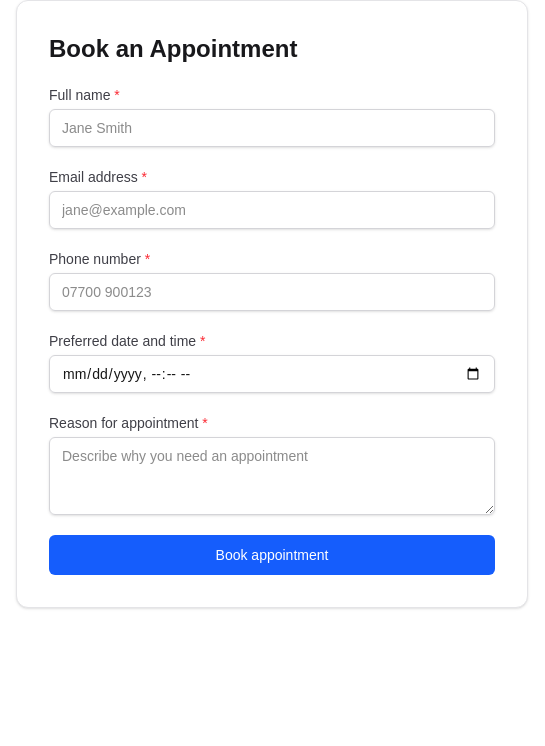
Test: BookingForm › validation › shows email format error
The image size is (545, 746).
Step 1. Type "bad" into the field labelled "Email address *" → (272, 210), box [49, 191, 495, 229]
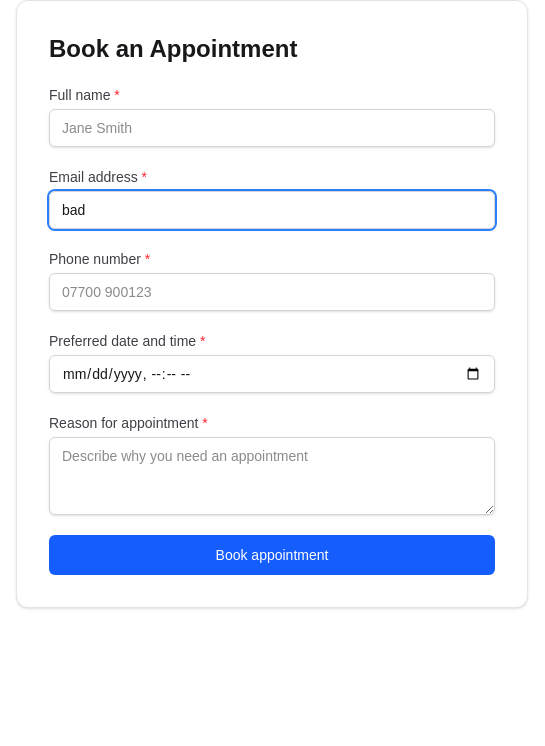
Step 2. Click the button "Book appointment" → (272, 555), box [49, 535, 495, 575]
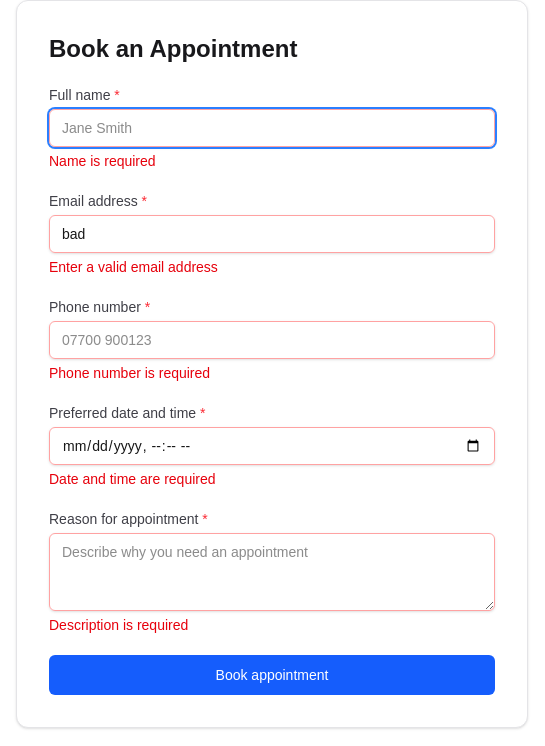
Check: the text "Enter a valid email address" is shown, box [49, 259, 218, 275]
